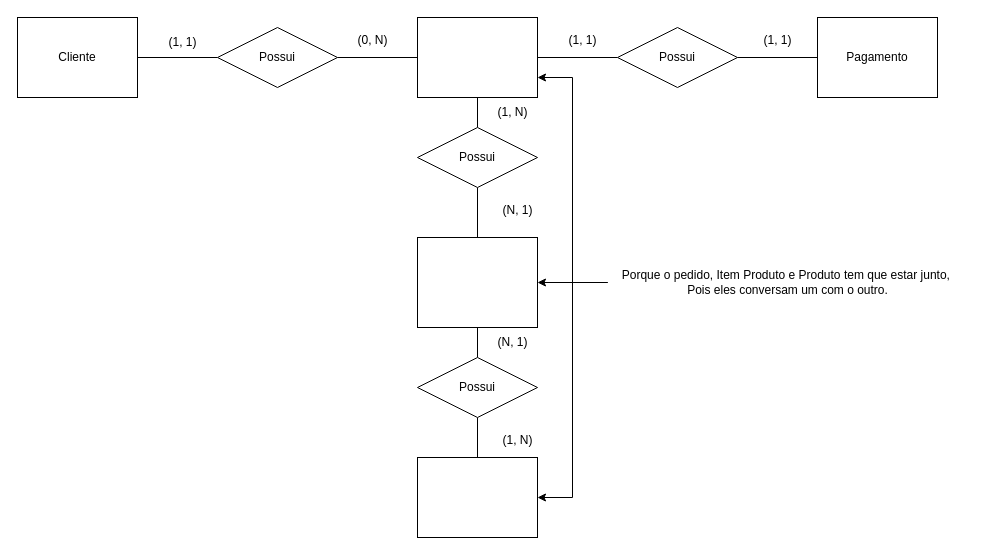
The diagram is 985 pixels wide and 555 high, and some of its shapes have lost their labels. Each missing label, with the centre of its shape:
ItemProduto: point 477,282
Pedido: point 477,57
Produto: point 477,497
